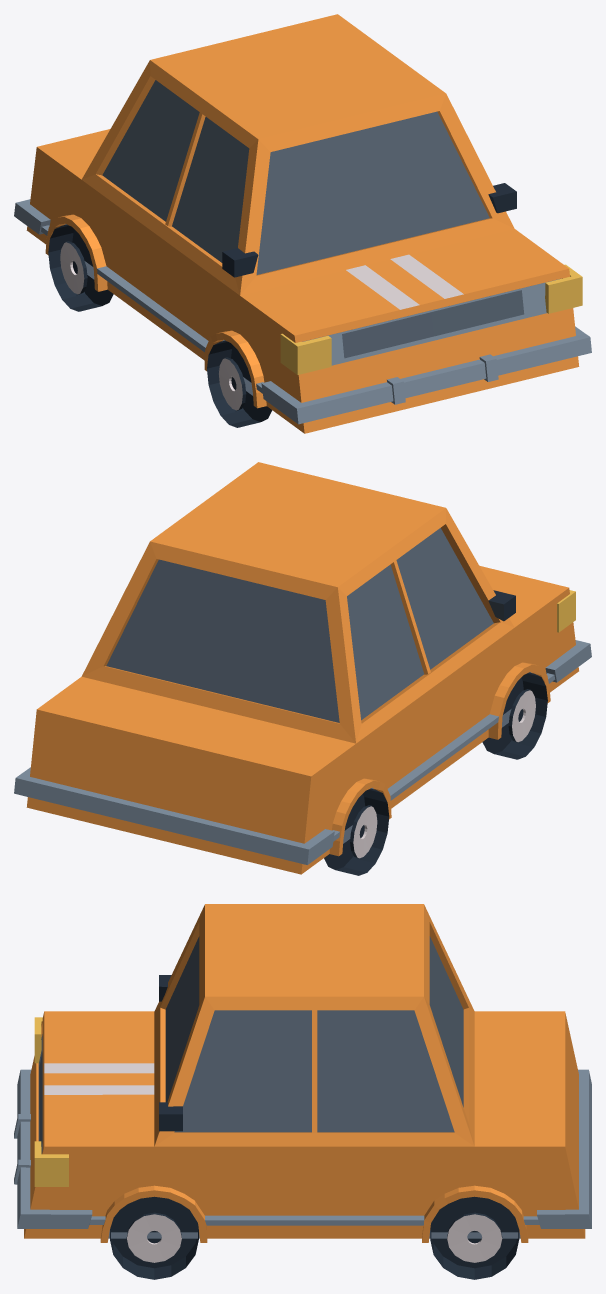
Rendered from car5.fbx.
3 views of the same model, one above another, from view 1: azimuth 30°, elevation 25°; view 2: azimuth 150°, elevation 25°; view 3: azimuth 270°, elevation 25° (orthographic).
Visible parts, largest first — view 1: purple.013; view 2: purple.013; view 3: purple.013.
Part boxes in pixels (left/top/right/bottom): purple.013: left=14, top=14, right=591, bottom=433; purple.013: left=14, top=462, right=591, bottom=875; purple.013: left=14, top=904, right=591, bottom=1279.
Bounding box in the file's own units: 216 × 177 × 361.
